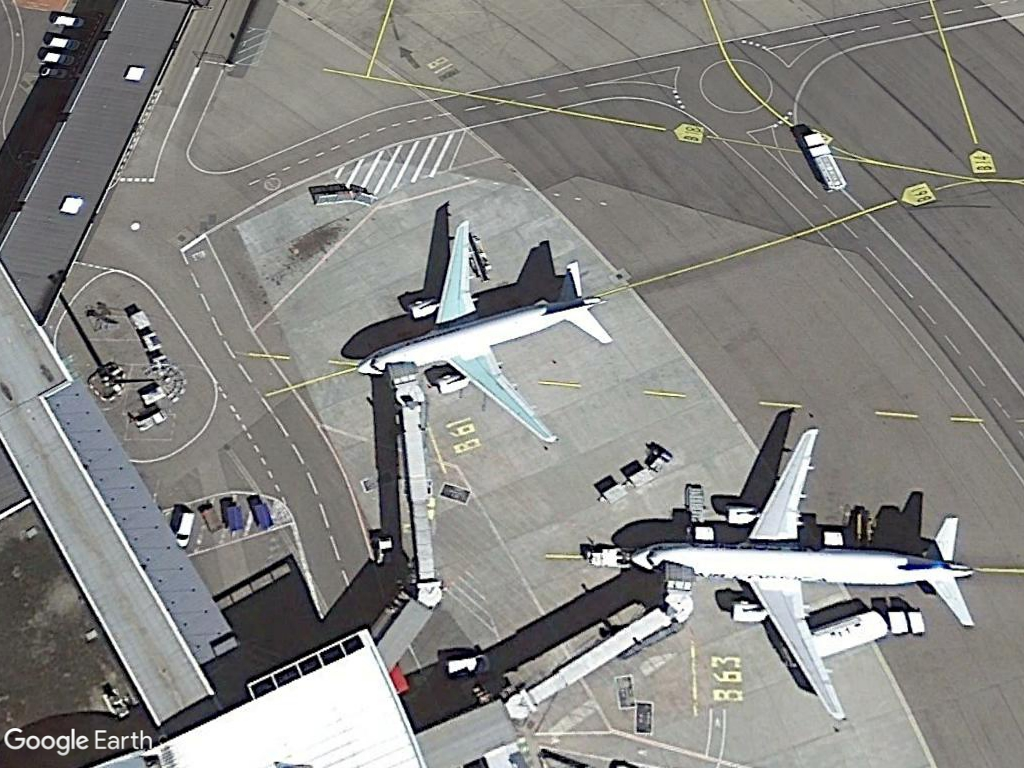airliner: (624, 411, 985, 724), (359, 216, 614, 447)
